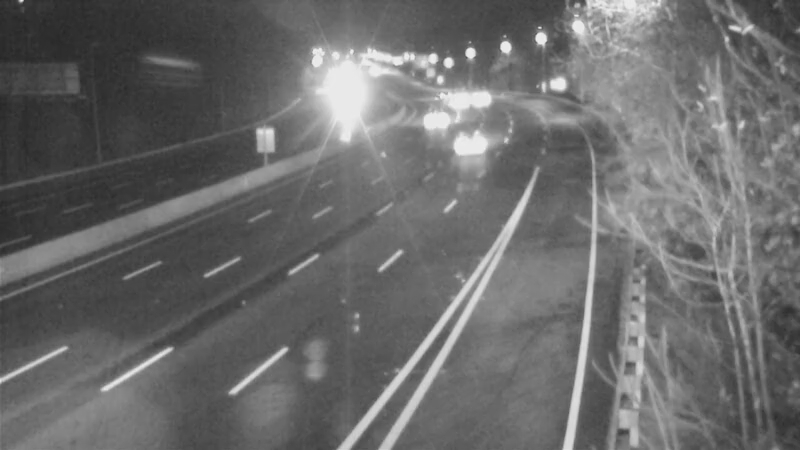vehicle: (415, 69, 465, 119), (459, 74, 509, 124), (429, 74, 479, 124), (406, 97, 456, 147), (447, 120, 497, 170)
